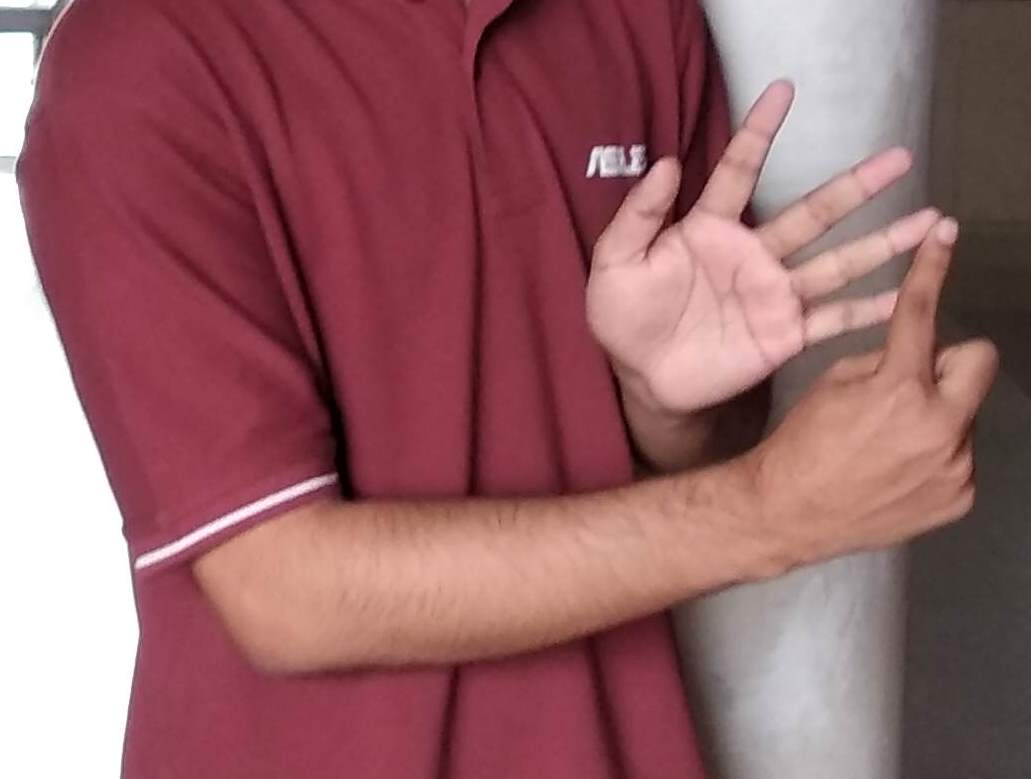e: (711, 116, 977, 495)
